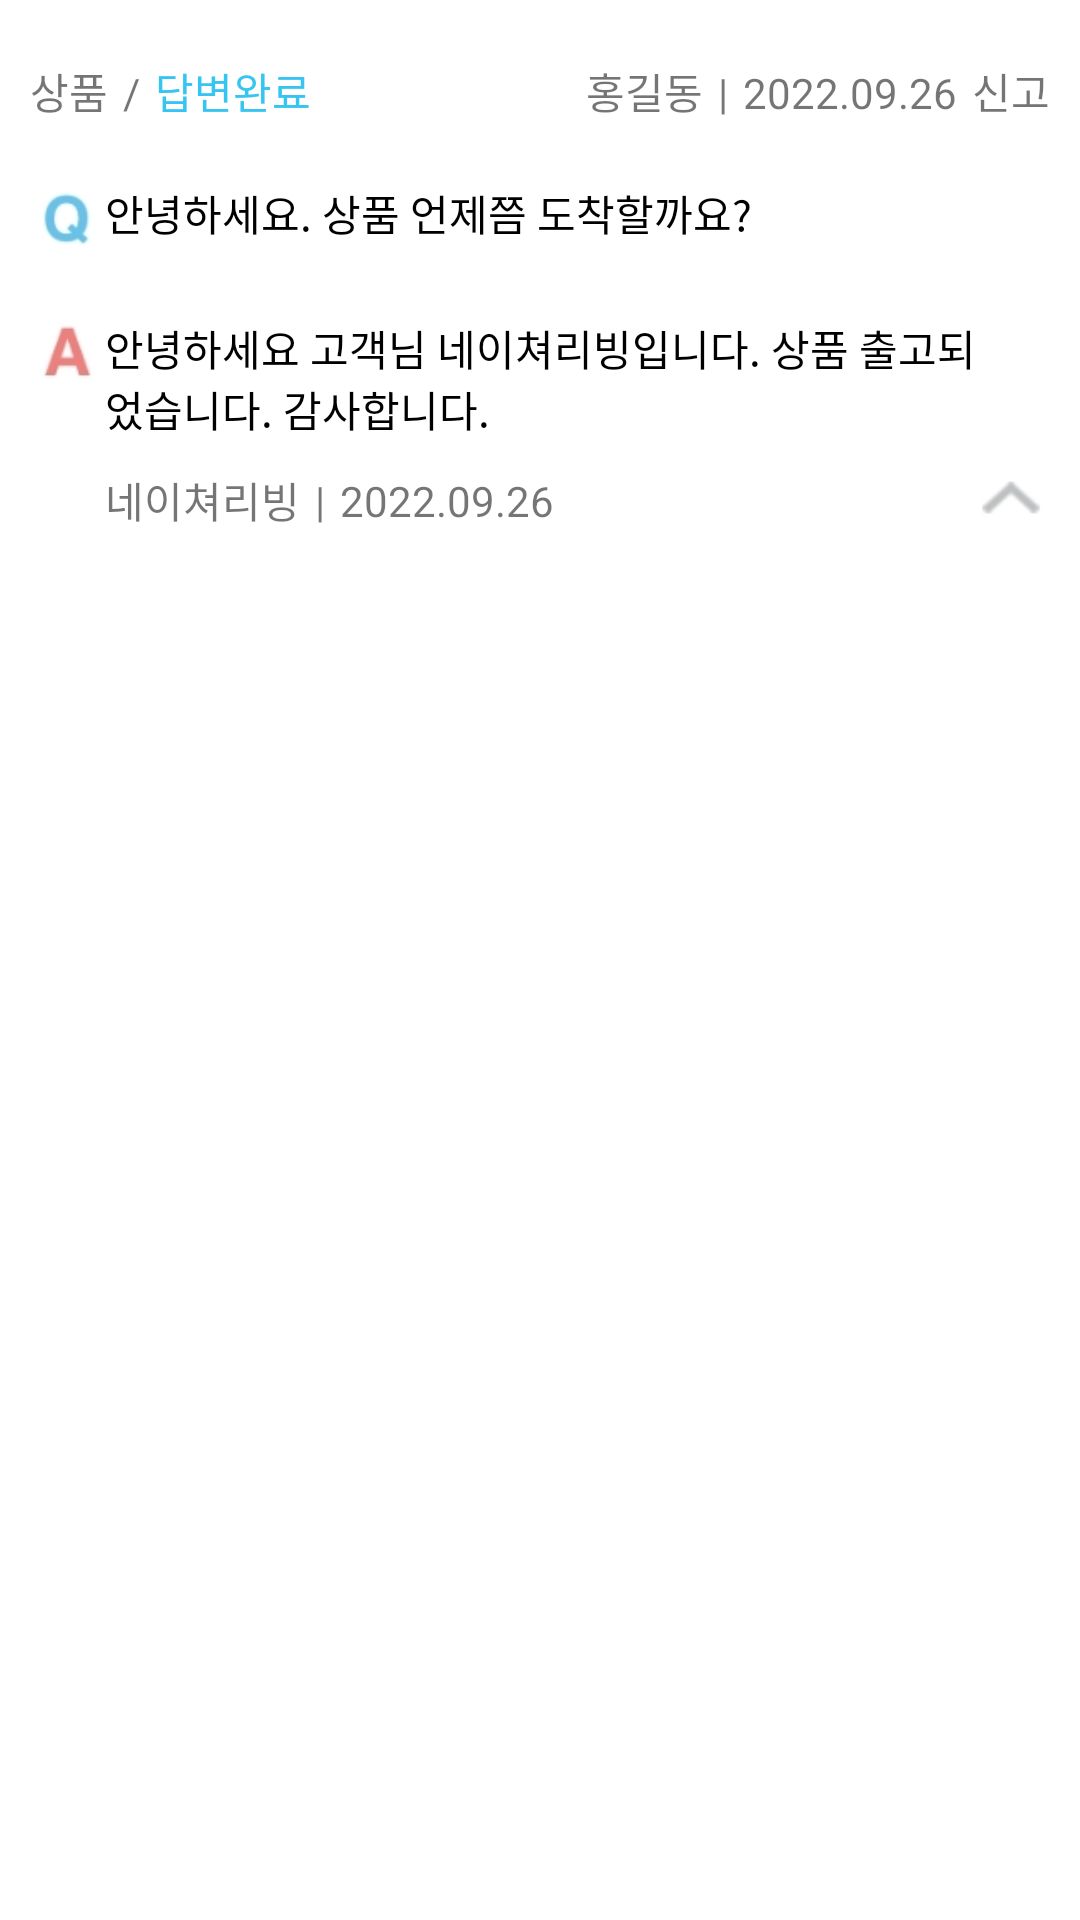

Where to tap for icons on this 1080×1920 app screen, as point (x, y):
inquiry answer: point (68, 351)
inquiry expandable: point (1011, 497)
inquiry question: point (66, 219)
